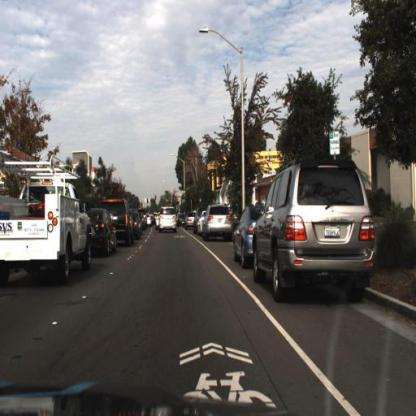car: (252, 147, 385, 316), (251, 153, 381, 306), (1, 139, 97, 302), (233, 201, 264, 275), (89, 200, 121, 268), (229, 205, 256, 276), (202, 197, 237, 249), (91, 202, 118, 261), (201, 200, 235, 244), (105, 195, 132, 249), (115, 196, 137, 256), (156, 201, 180, 233), (132, 202, 142, 244), (184, 207, 197, 238), (187, 207, 199, 235), (198, 205, 206, 241), (193, 206, 201, 238)
